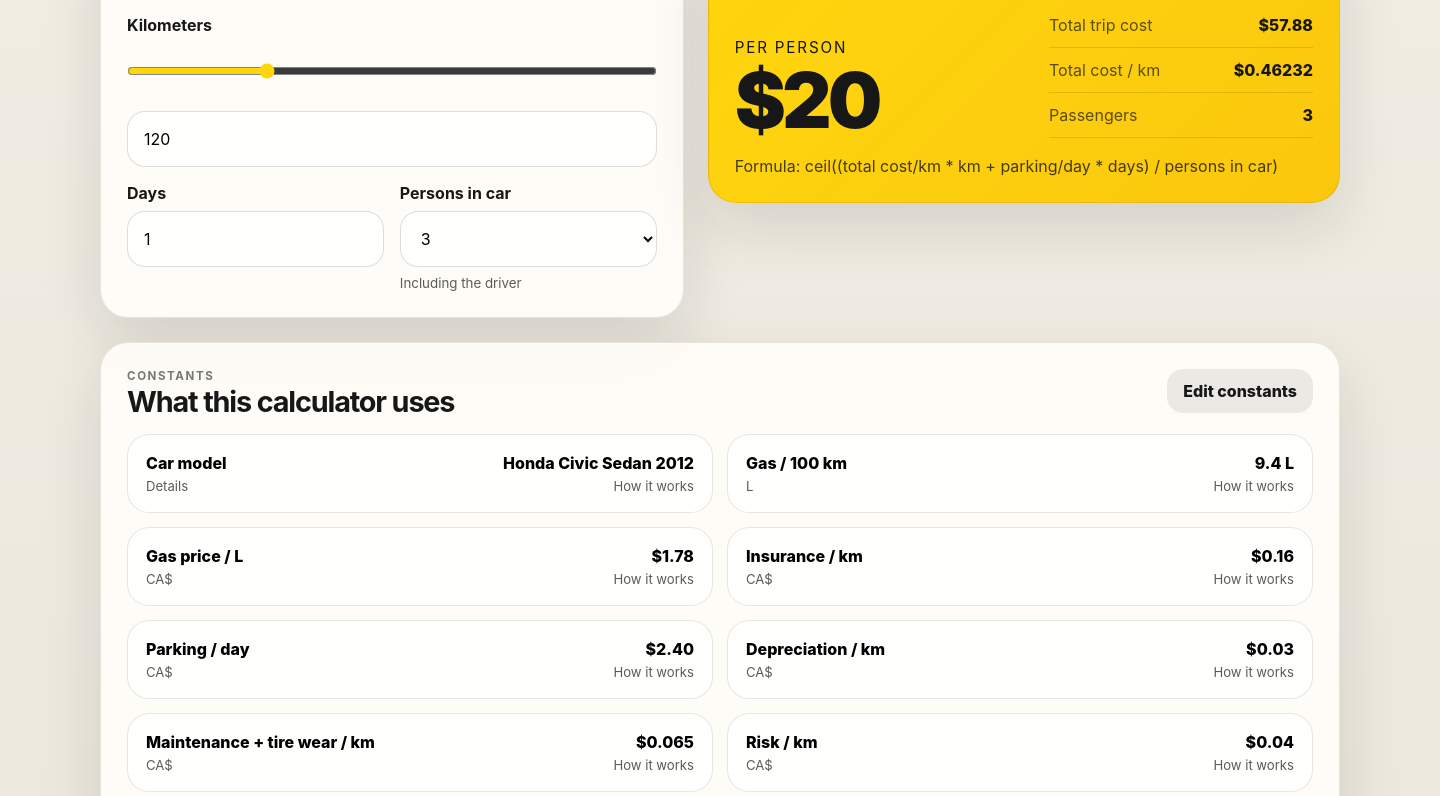
App › keeps non-admin users out of the editor
The width and height of the screenshot is (1440, 796).
(page scrolled)
Click the button "Edit constants".
click(1240, 391)  # box [1167,369,1313,413]
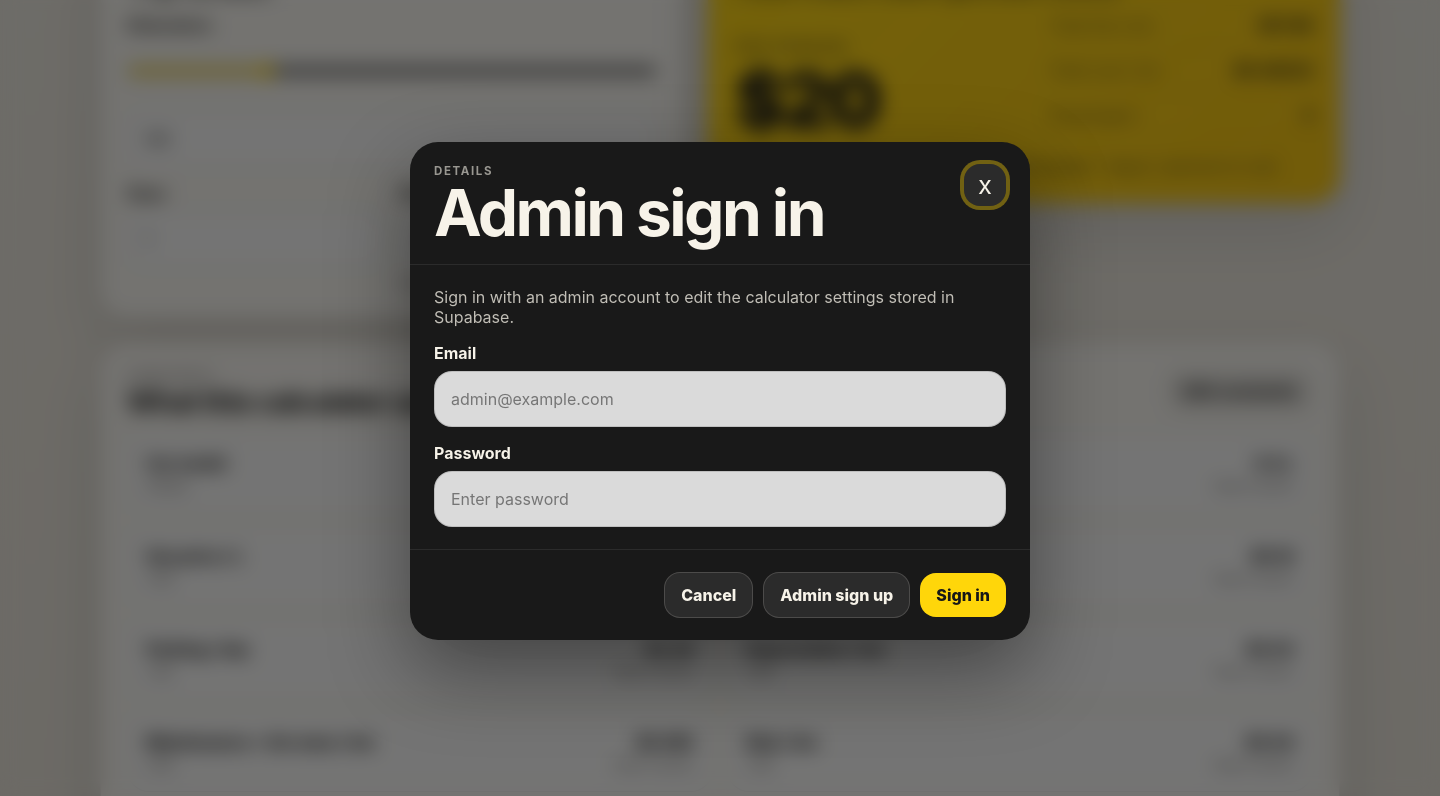
Expected: the heading "Admin sign in" is shown, [434,184,824,242]
Expected: the button "Cancel" is shown, [664,572,753,618]
Expected: the button "Admin sign up" is shown, [763,572,910,618]
